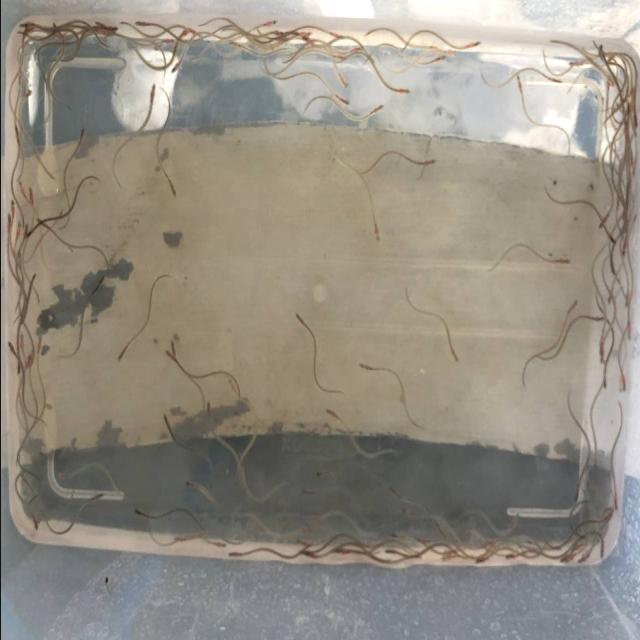glass_eel: (566, 297, 579, 322), (292, 309, 306, 332), (447, 340, 460, 364), (224, 373, 237, 396), (554, 254, 572, 270), (160, 410, 172, 434), (573, 550, 589, 568), (557, 550, 573, 568), (505, 510, 521, 528), (472, 552, 490, 568), (323, 406, 341, 422), (438, 549, 457, 564), (115, 343, 129, 363), (382, 544, 402, 558), (386, 529, 407, 542), (414, 534, 431, 550), (398, 504, 414, 520), (12, 120, 22, 144), (621, 286, 631, 310), (388, 484, 400, 504), (202, 398, 212, 421), (610, 489, 619, 514), (483, 534, 499, 548), (313, 467, 329, 481), (15, 178, 26, 198), (371, 224, 382, 244), (596, 342, 606, 364), (570, 482, 580, 504), (420, 156, 437, 168), (595, 215, 607, 232), (160, 350, 177, 362), (88, 491, 105, 503), (618, 371, 626, 396), (595, 542, 605, 562), (183, 480, 203, 490), (172, 534, 192, 544), (29, 512, 39, 532), (14, 220, 23, 242), (355, 359, 369, 373), (338, 74, 350, 90), (169, 59, 181, 75), (624, 320, 632, 344), (168, 338, 176, 362), (502, 550, 518, 562), (300, 487, 316, 499), (630, 110, 639, 131), (566, 59, 583, 70), (8, 197, 16, 220), (371, 104, 385, 117), (22, 87, 34, 102), (618, 240, 628, 258), (466, 39, 482, 50), (168, 179, 176, 201), (605, 285, 613, 307), (131, 507, 147, 518), (227, 550, 244, 560), (210, 540, 227, 550), (432, 53, 446, 65), (335, 96, 349, 108), (20, 20, 34, 32), (605, 232, 617, 246), (592, 313, 606, 325), (599, 371, 607, 392), (441, 48, 456, 59), (396, 86, 411, 97), (50, 21, 61, 36), (15, 66, 24, 84), (514, 74, 522, 94), (263, 18, 279, 28), (148, 82, 156, 102), (34, 332, 42, 352), (298, 548, 314, 558), (52, 470, 68, 480), (180, 26, 193, 38), (6, 212, 12, 238), (96, 274, 107, 288), (18, 472, 29, 486), (26, 184, 34, 203), (328, 31, 343, 41), (78, 124, 86, 142), (351, 45, 365, 55), (334, 54, 348, 64), (160, 37, 174, 47), (6, 340, 16, 354), (621, 121, 629, 138), (105, 23, 118, 33), (294, 538, 307, 548), (18, 331, 26, 347), (604, 78, 612, 94), (624, 98, 630, 119), (548, 76, 562, 85), (22, 221, 29, 239), (36, 218, 48, 228), (306, 513, 316, 525), (227, 40, 240, 49), (297, 31, 313, 38), (133, 20, 147, 28), (596, 42, 602, 60), (92, 20, 104, 28), (16, 360, 22, 376), (26, 352, 32, 368), (298, 528, 308, 536), (300, 522, 312, 528)
